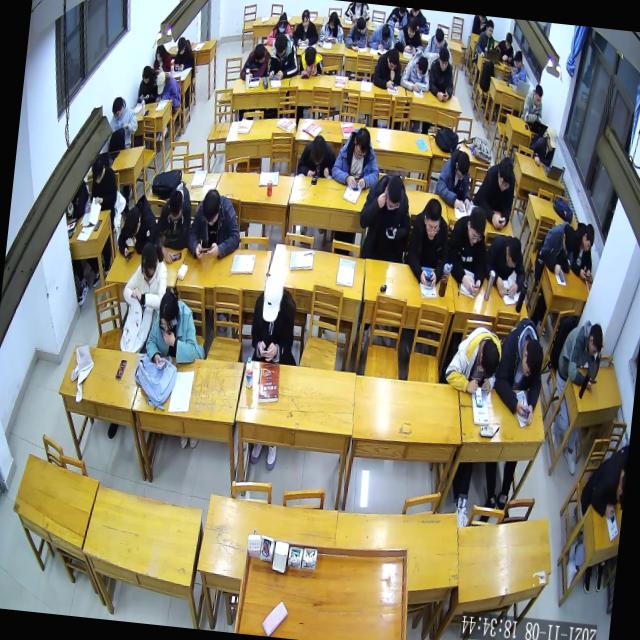bow: (116, 190, 160, 260), (536, 216, 578, 280), (398, 46, 432, 91), (240, 38, 272, 80), (367, 18, 398, 52), (296, 44, 324, 74)
down: (519, 338, 545, 382), (156, 285, 180, 331), (477, 336, 502, 379), (421, 194, 444, 240), (261, 274, 284, 320), (465, 205, 489, 248), (198, 189, 220, 227), (138, 240, 160, 278), (350, 125, 372, 162), (382, 176, 403, 212), (308, 132, 328, 168), (495, 156, 514, 193), (587, 318, 605, 355), (122, 206, 142, 239), (503, 236, 522, 270), (167, 188, 186, 220), (560, 222, 577, 255), (88, 158, 107, 185), (453, 150, 470, 178), (272, 32, 288, 59), (581, 223, 595, 253), (544, 125, 558, 152), (110, 96, 125, 120), (152, 70, 168, 92), (414, 56, 428, 80), (302, 46, 316, 70), (437, 48, 450, 72), (387, 47, 400, 69), (513, 46, 525, 68), (326, 8, 338, 30), (533, 84, 544, 107), (405, 17, 417, 38), (432, 27, 444, 48), (154, 41, 166, 62), (140, 62, 152, 82), (276, 13, 288, 32), (380, 23, 391, 43), (300, 9, 311, 29), (176, 34, 187, 54), (504, 30, 514, 51)
lookup: (484, 18, 496, 38)
sit: (113, 238, 171, 356), (490, 314, 550, 426), (244, 270, 306, 368), (141, 288, 208, 374), (356, 170, 415, 264), (442, 205, 492, 296), (442, 320, 505, 392), (404, 194, 454, 284), (187, 186, 245, 263), (579, 439, 628, 526), (468, 150, 520, 228), (554, 312, 604, 390), (328, 125, 383, 191), (482, 228, 532, 296), (153, 178, 196, 250), (432, 142, 476, 210), (84, 154, 124, 210), (294, 130, 337, 180), (102, 92, 140, 147), (567, 218, 599, 282), (425, 44, 457, 98), (265, 30, 300, 78), (372, 44, 404, 91), (392, 16, 427, 54), (528, 125, 559, 167), (423, 26, 456, 64), (291, 6, 320, 47), (134, 60, 160, 102), (171, 32, 197, 72), (266, 9, 294, 46), (520, 82, 545, 123), (343, 15, 370, 52), (318, 9, 346, 44), (474, 15, 496, 56), (506, 46, 528, 84), (150, 41, 174, 75), (493, 29, 516, 62), (343, 1, 371, 24), (404, 8, 429, 33), (385, 6, 411, 30), (470, 15, 488, 36)
